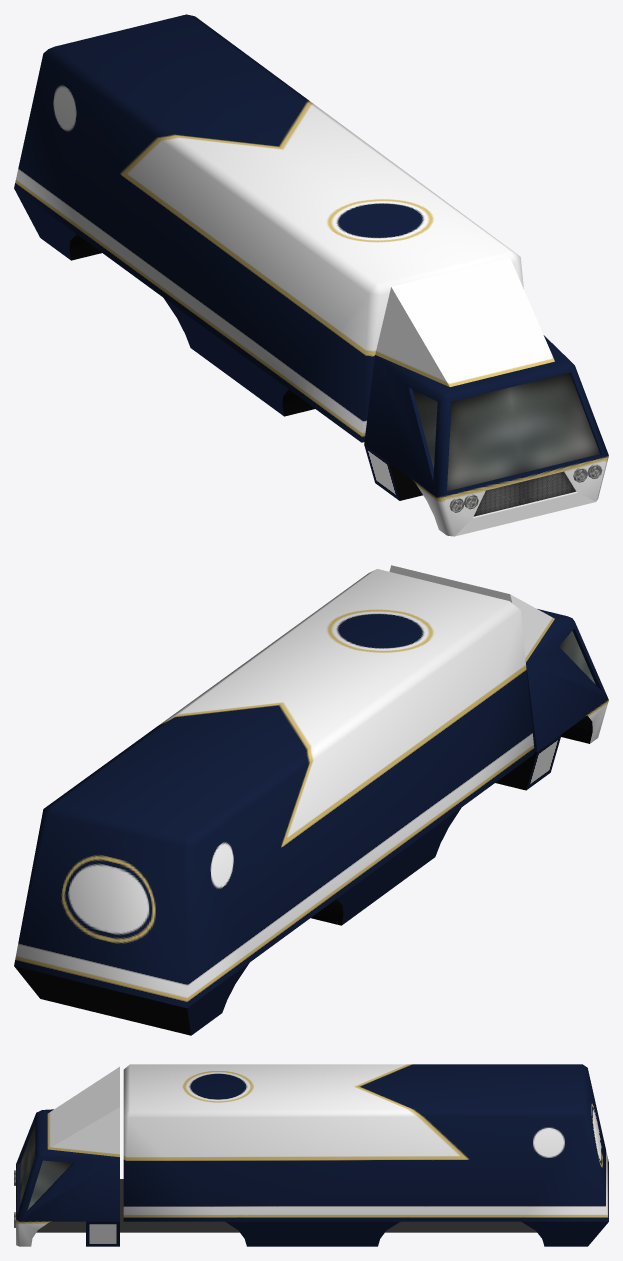
File: Car-SWATBus.fbx
3 views of the same model, one above another, from view 1: azimuth 30°, elevation 25°; view 2: azimuth 150°, elevation 25°; view 3: azimuth 270°, elevation 25° (orthographic). The views are drawn at different scales.
Parts seen in each view (by area): view 1: pCube41; view 2: pCube41; view 3: pCube41.
Part boxes in pixels (box(x1,y1,x2,y2)): pCube41: box(14, 14, 608, 536); pCube41: box(14, 565, 608, 1035); pCube41: box(14, 1064, 608, 1246).
Size of the model in its own units: 0.6593 by 0.7 by 2.81.
